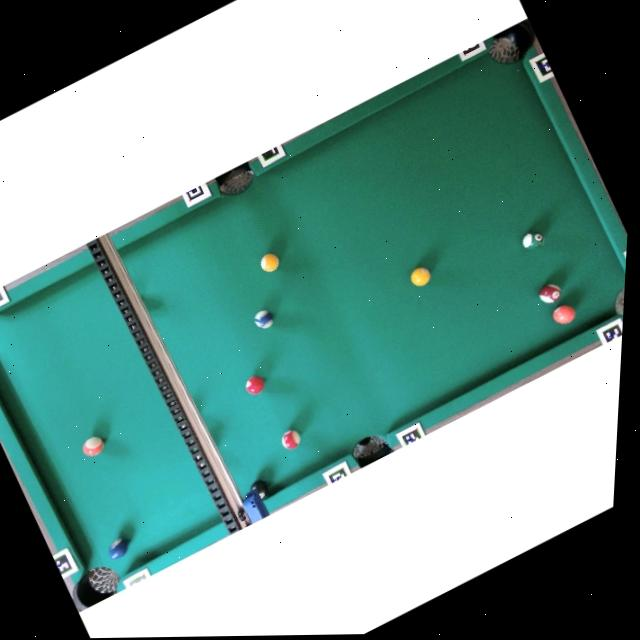other: (549, 300, 580, 328), (244, 475, 273, 504), (536, 279, 566, 307), (519, 227, 548, 255), (105, 535, 134, 562), (79, 433, 108, 459), (242, 372, 269, 398), (278, 427, 305, 452), (257, 250, 283, 275), (408, 264, 434, 289), (251, 307, 277, 332)
